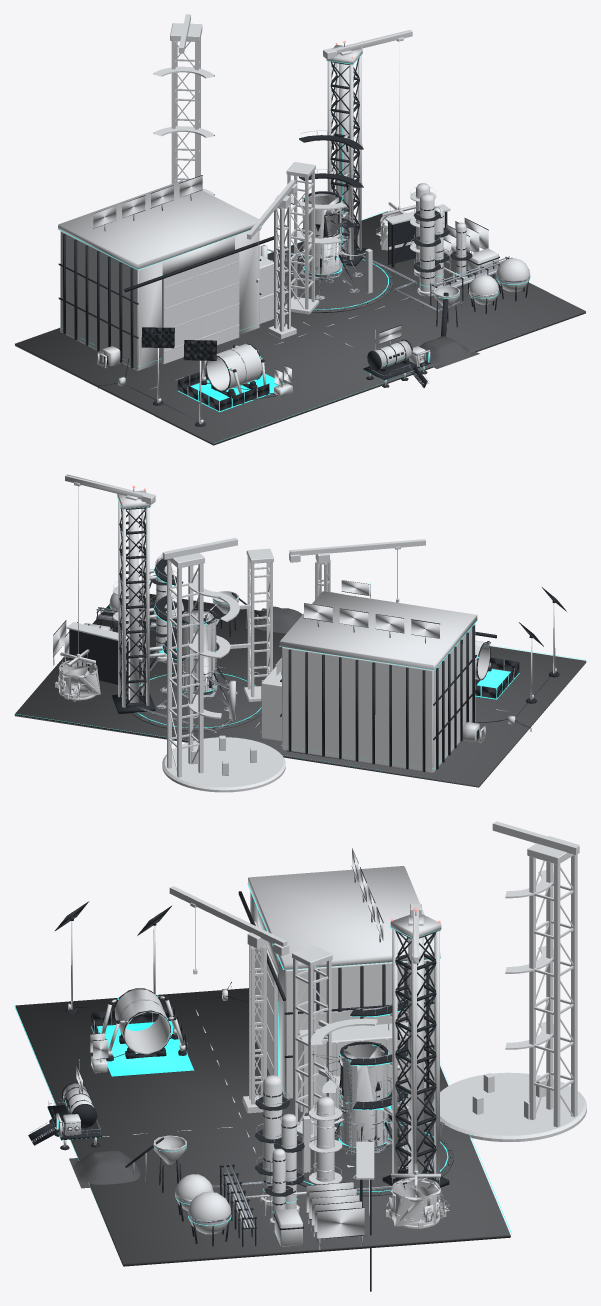
File: shipyard_game.glb
3 views of the same model, one above another, from view 1: azimuth 30°, elevation 25°; view 2: azimuth 150°, elevation 25°; view 3: azimuth 270°, elevation 25° (orthographic). The views are drawn at different scales.
Visible parts, largest first — view 1: shipyard_base, Hall_Door_Leaves, Tier_20, Tier_12, Tier_03, Crane_Jib, Tier_08, Tier_05; view 2: shipyard_base, Tier_20, Tier_12, Crane_Jib, Tier_03, Tier_08; view 3: shipyard_base, Tier_20, Tier_12, Tier_03, Crane_Jib, Tier_08, Tier_05, Hall_Door_Leaves.
Boxes of the visible parts, left/top/right/bottom form: shipyard_base: left=15, top=43, right=585, bottom=445; Hall_Door_Leaves: left=162, top=252, right=239, bottom=364; Tier_20: left=153, top=14, right=214, bottom=195; Tier_12: left=285, top=162, right=372, bottom=314; Tier_03: left=247, top=180, right=297, bottom=339; Crane_Jib: left=323, top=30, right=415, bottom=250; Tier_08: left=259, top=246, right=273, bottom=323; Tier_05: left=410, top=183, right=465, bottom=282; shipyard_base: left=14, top=488, right=586, bottom=787; Tier_20: left=162, top=538, right=285, bottom=792; Tier_12: left=215, top=548, right=273, bottom=701; Crane_Jib: left=55, top=474, right=155, bottom=701; Tier_03: left=289, top=539, right=425, bottom=602; Tier_08: left=260, top=657, right=281, bottom=741; shipyard_base: left=14, top=848, right=511, bottom=1291; Tier_20: left=431, top=821, right=586, bottom=1141; Tier_12: left=292, top=945, right=377, bottom=1172; Tier_03: left=169, top=886, right=289, bottom=1113; Crane_Jib: left=386, top=904, right=449, bottom=1228; Tier_08: left=298, top=1009, right=408, bottom=1113; Tier_05: left=245, top=1096, right=342, bottom=1215; Hall_Door_Leaves: left=254, top=921, right=277, bottom=1075.
Size of the model in its own units: 114 by 62.13 by 95.89.
